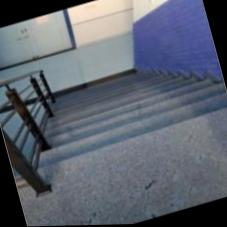Animal: (42, 75, 216, 188)
